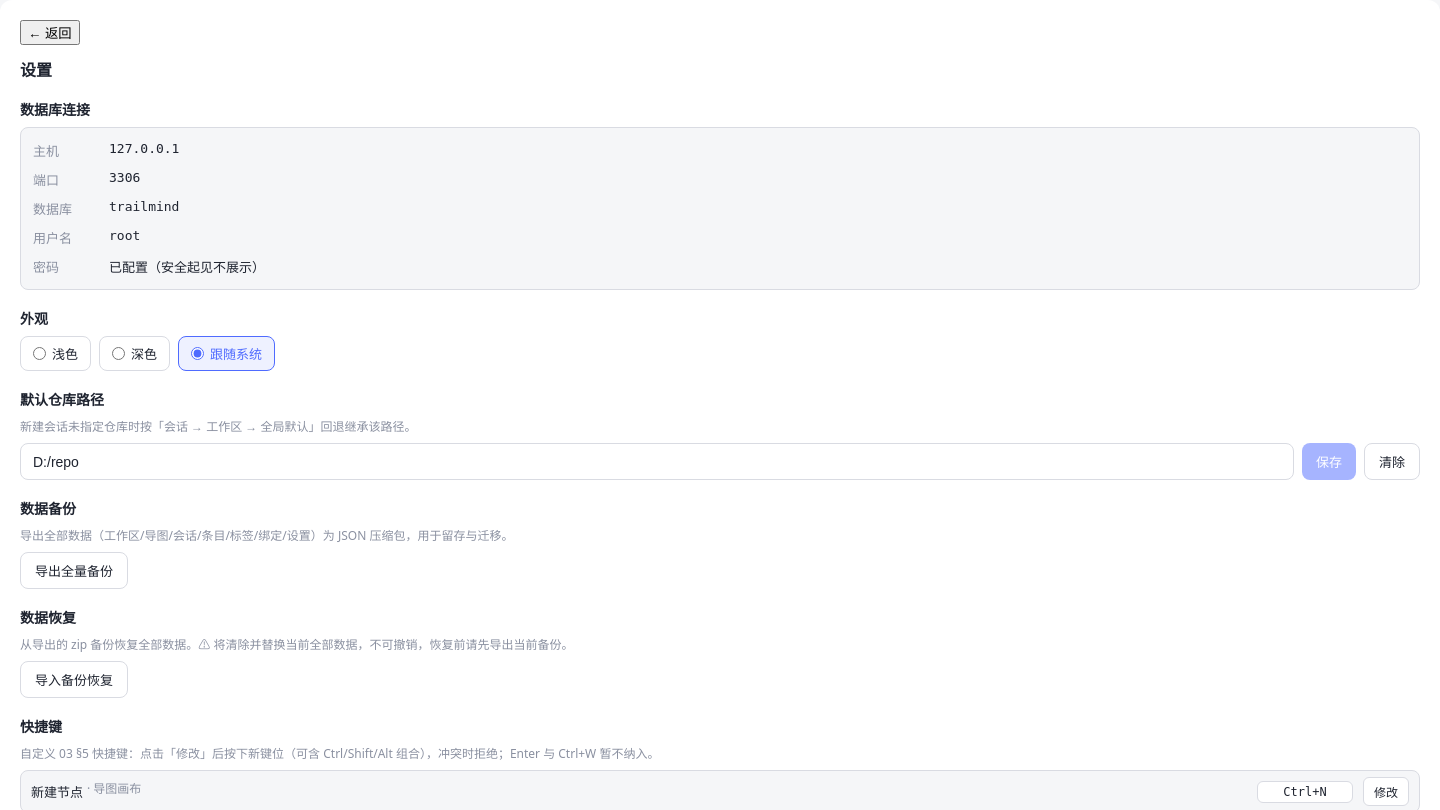
Test case: SettingsPanel 设置页（M4 任务四） › 清除仓库路径传空白字符串
Expected: the field showing "D:/repo" is shown, x1=20 y1=443 x2=1294 y2=480
Step 1. Click the button "清除" → (1392, 462), box x1=1364 y1=443 x2=1420 y2=480
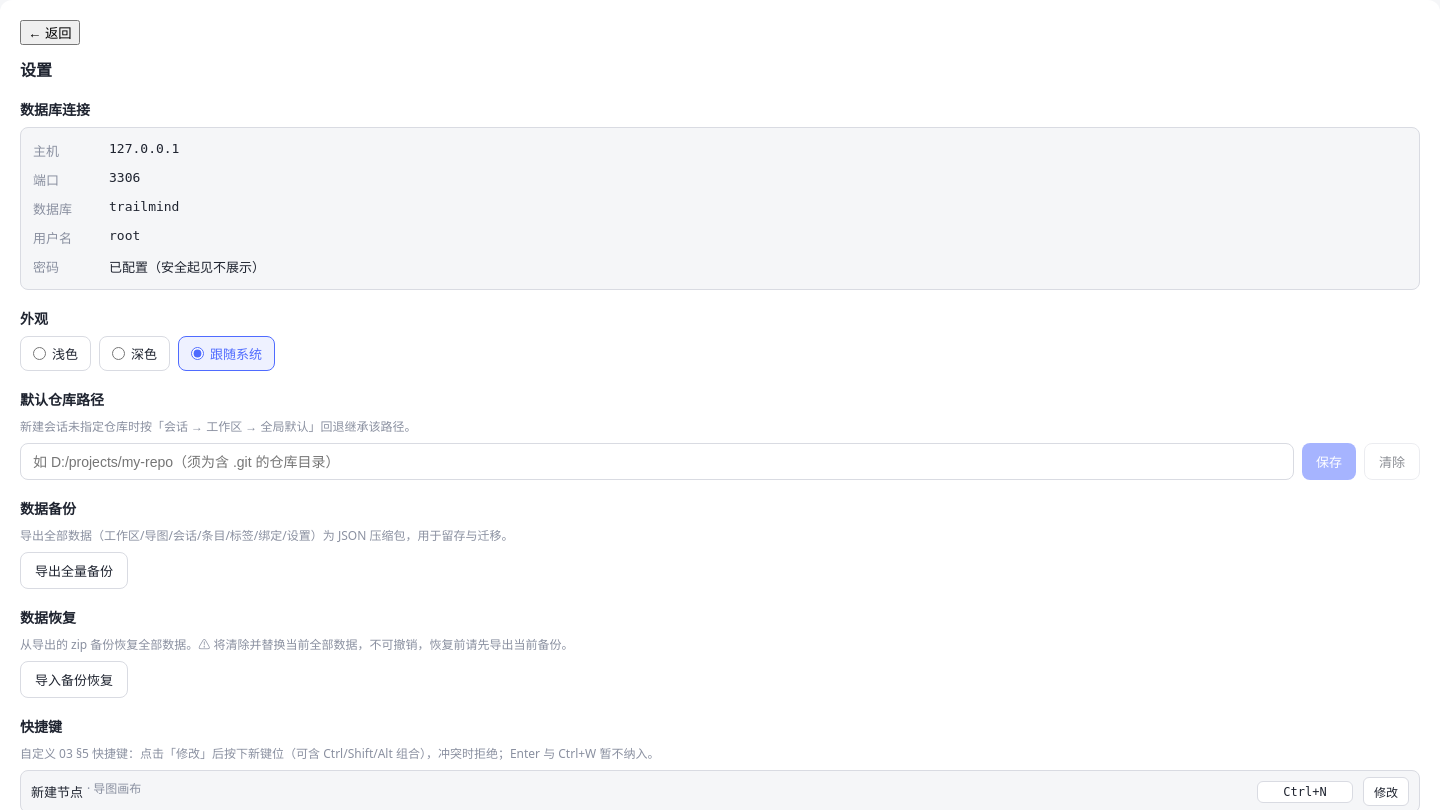
Expected: the field named "默认仓库路径" is empty, x1=20 y1=443 x2=1294 y2=480
